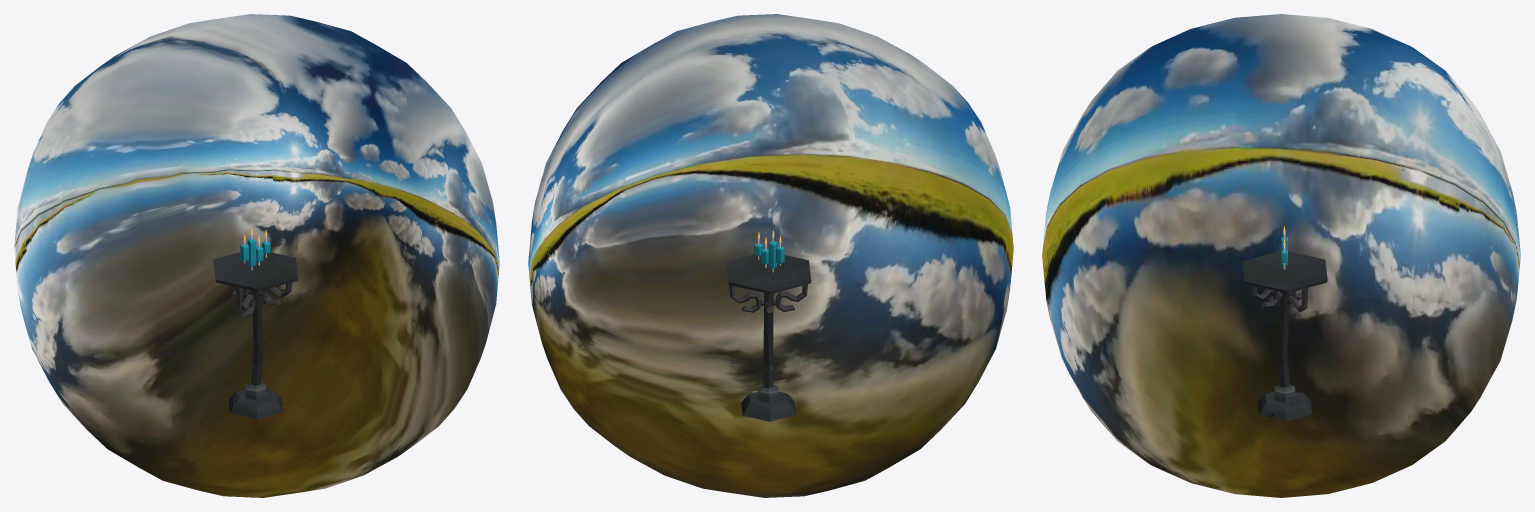
File: XCandleAnimatedFlameJapanese.glb
3 views of the same model, side by side, from view 1: azimuth 30°, elevation 25°; view 2: azimuth 150°, elevation 25°; view 3: azimuth 270°, elevation 25° (orthographic).
Visible parts, largest first — view 1: Room, Candle_Stand, XBase; view 2: Room, Candle_Stand, XBase; view 3: Room, Candle_Stand.
Boxes of the visible parts, x1=… form: Room: x1=14, y1=14, x2=499, y2=497; Candle_Stand: x1=213, y1=252, x2=298, y2=419; XBase: x1=240, y1=238, x2=270, y2=266; Room: x1=528, y1=14, x2=1013, y2=497; Candle_Stand: x1=726, y1=254, x2=811, y2=421; XBase: x1=754, y1=241, x2=784, y2=268; Room: x1=1042, y1=14, x2=1520, y2=497; Candle_Stand: x1=1242, y1=250, x2=1327, y2=421.
Bounding box in the file's own units: 24.44 × 24.44 × 24.44.
5 materials, 3 textured.
